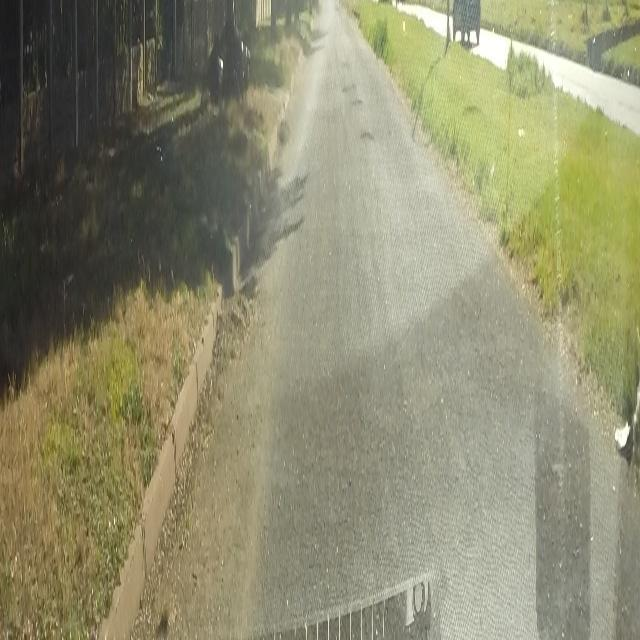pothole: (357, 126, 379, 146)
